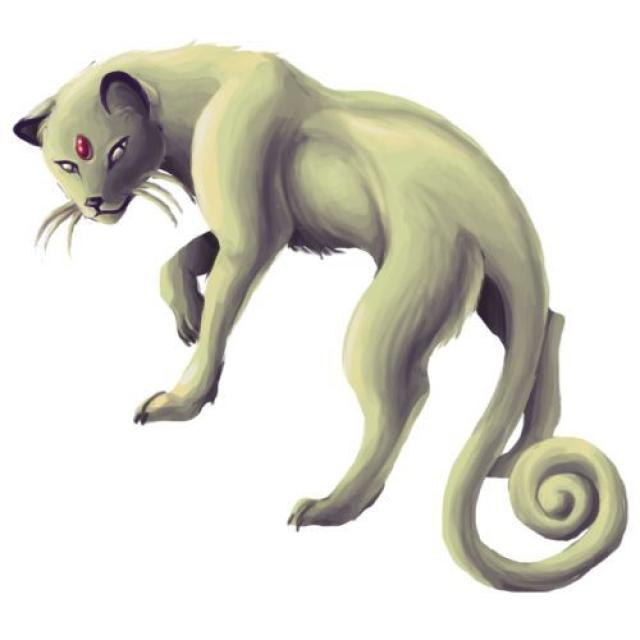Persian: (26, 48, 553, 528)
